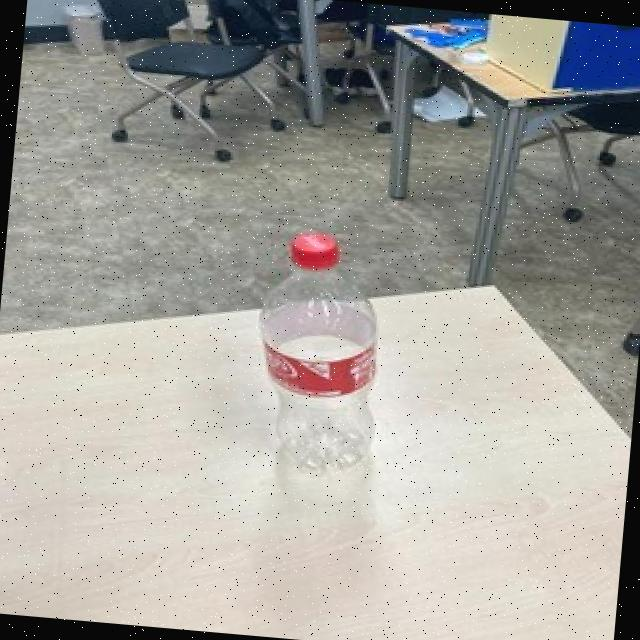bottle: (242, 222, 394, 486)
cap: (284, 228, 341, 276)
label: (246, 318, 386, 401)
